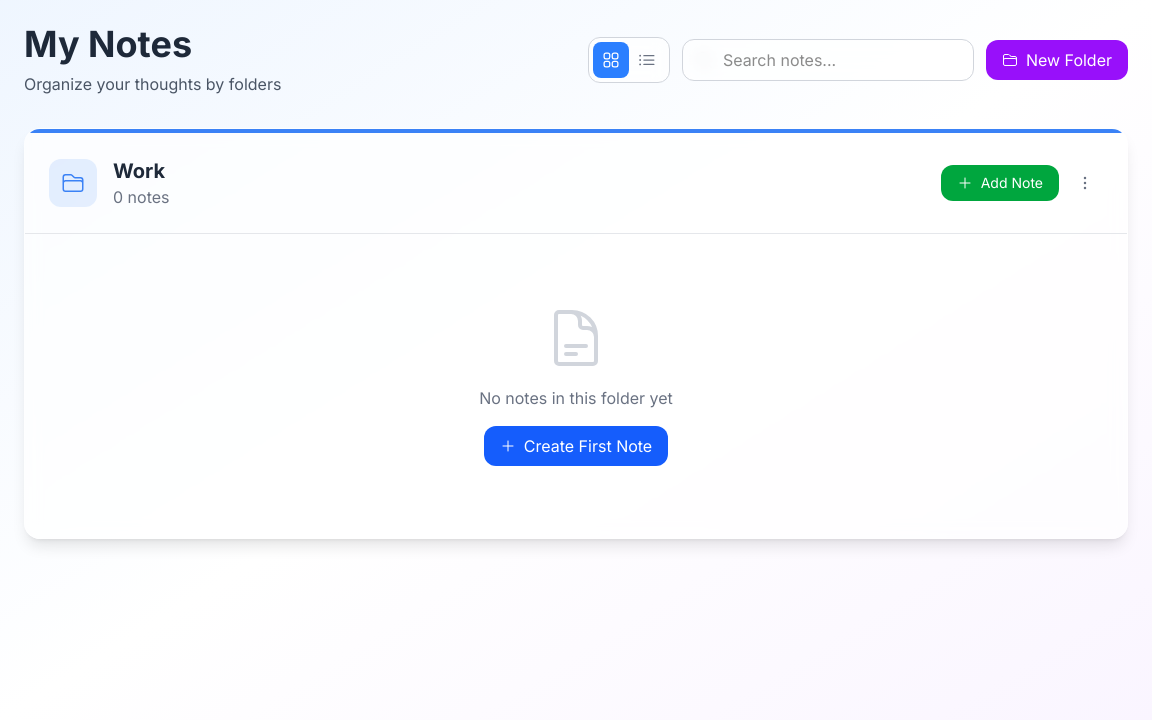
Test: Notes Page › Folder Actions Menu › closes folder actions menu when clicking outside
Click the button named "folder-actions-button": (1085, 183) top-left (1067, 165), bottom-right (1103, 201)
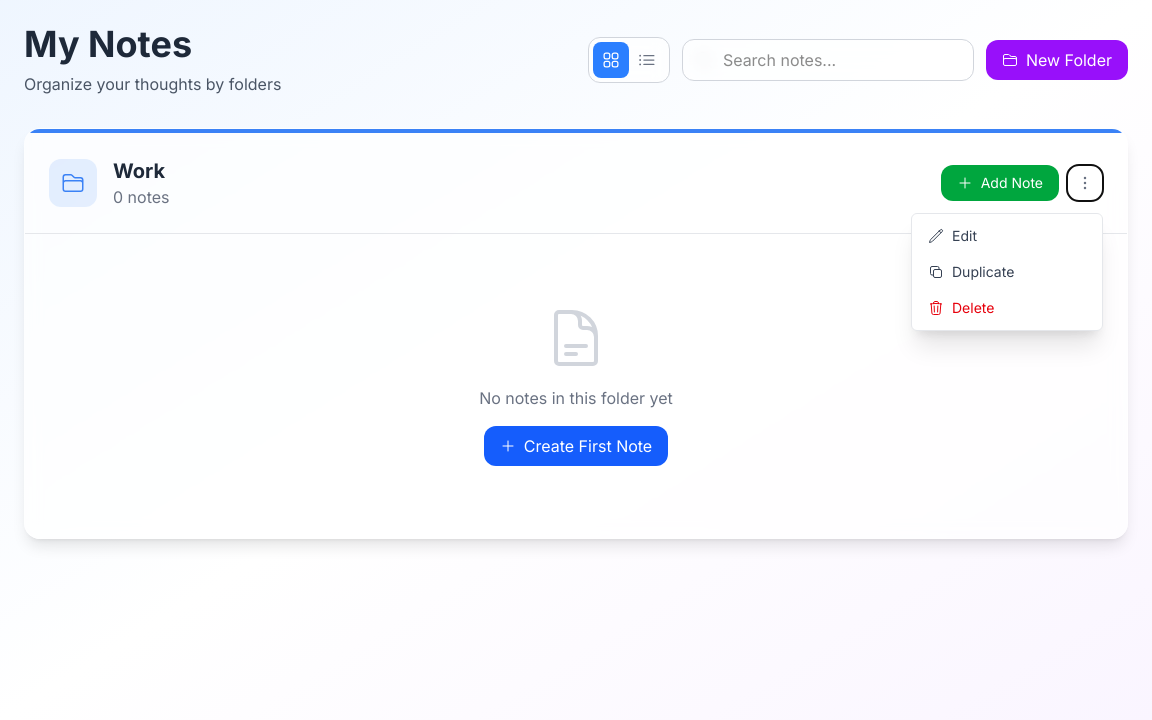
Expected: the button "Edit" is shown, top-left (912, 218), bottom-right (1102, 254)
# Click outside
Click the element that starts with "My Notes": (576, 360) top-left (0, 0), bottom-right (1151, 719)
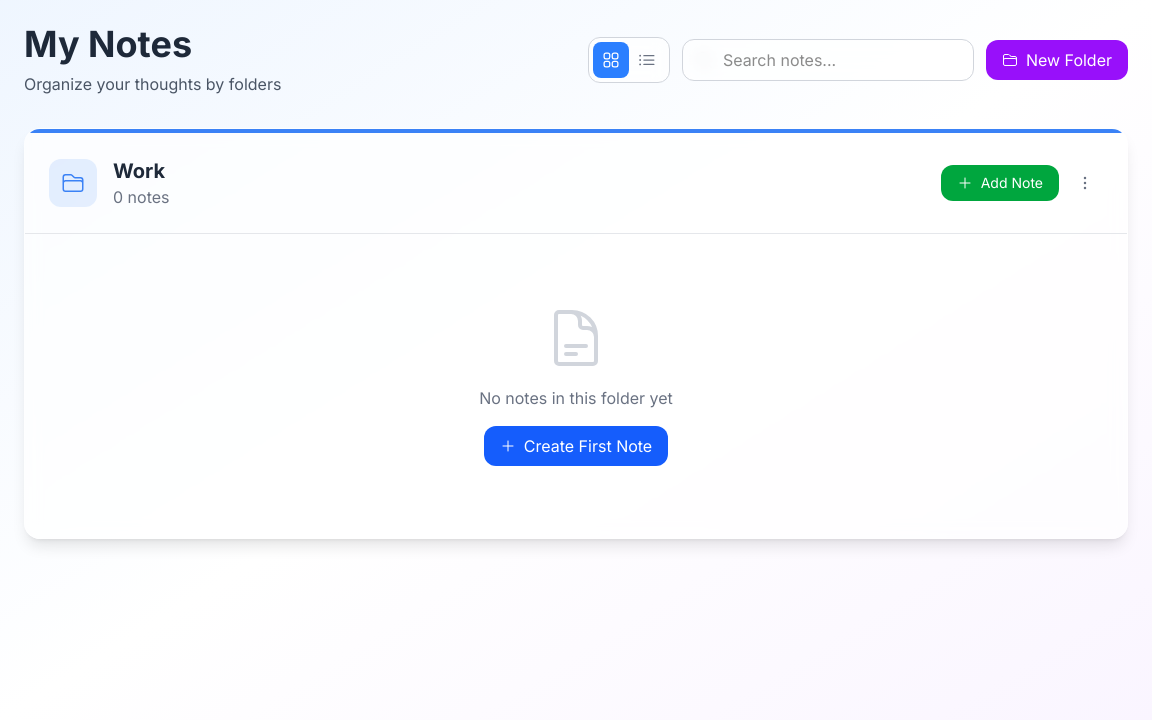
Expected: the button "Edit" is gone
